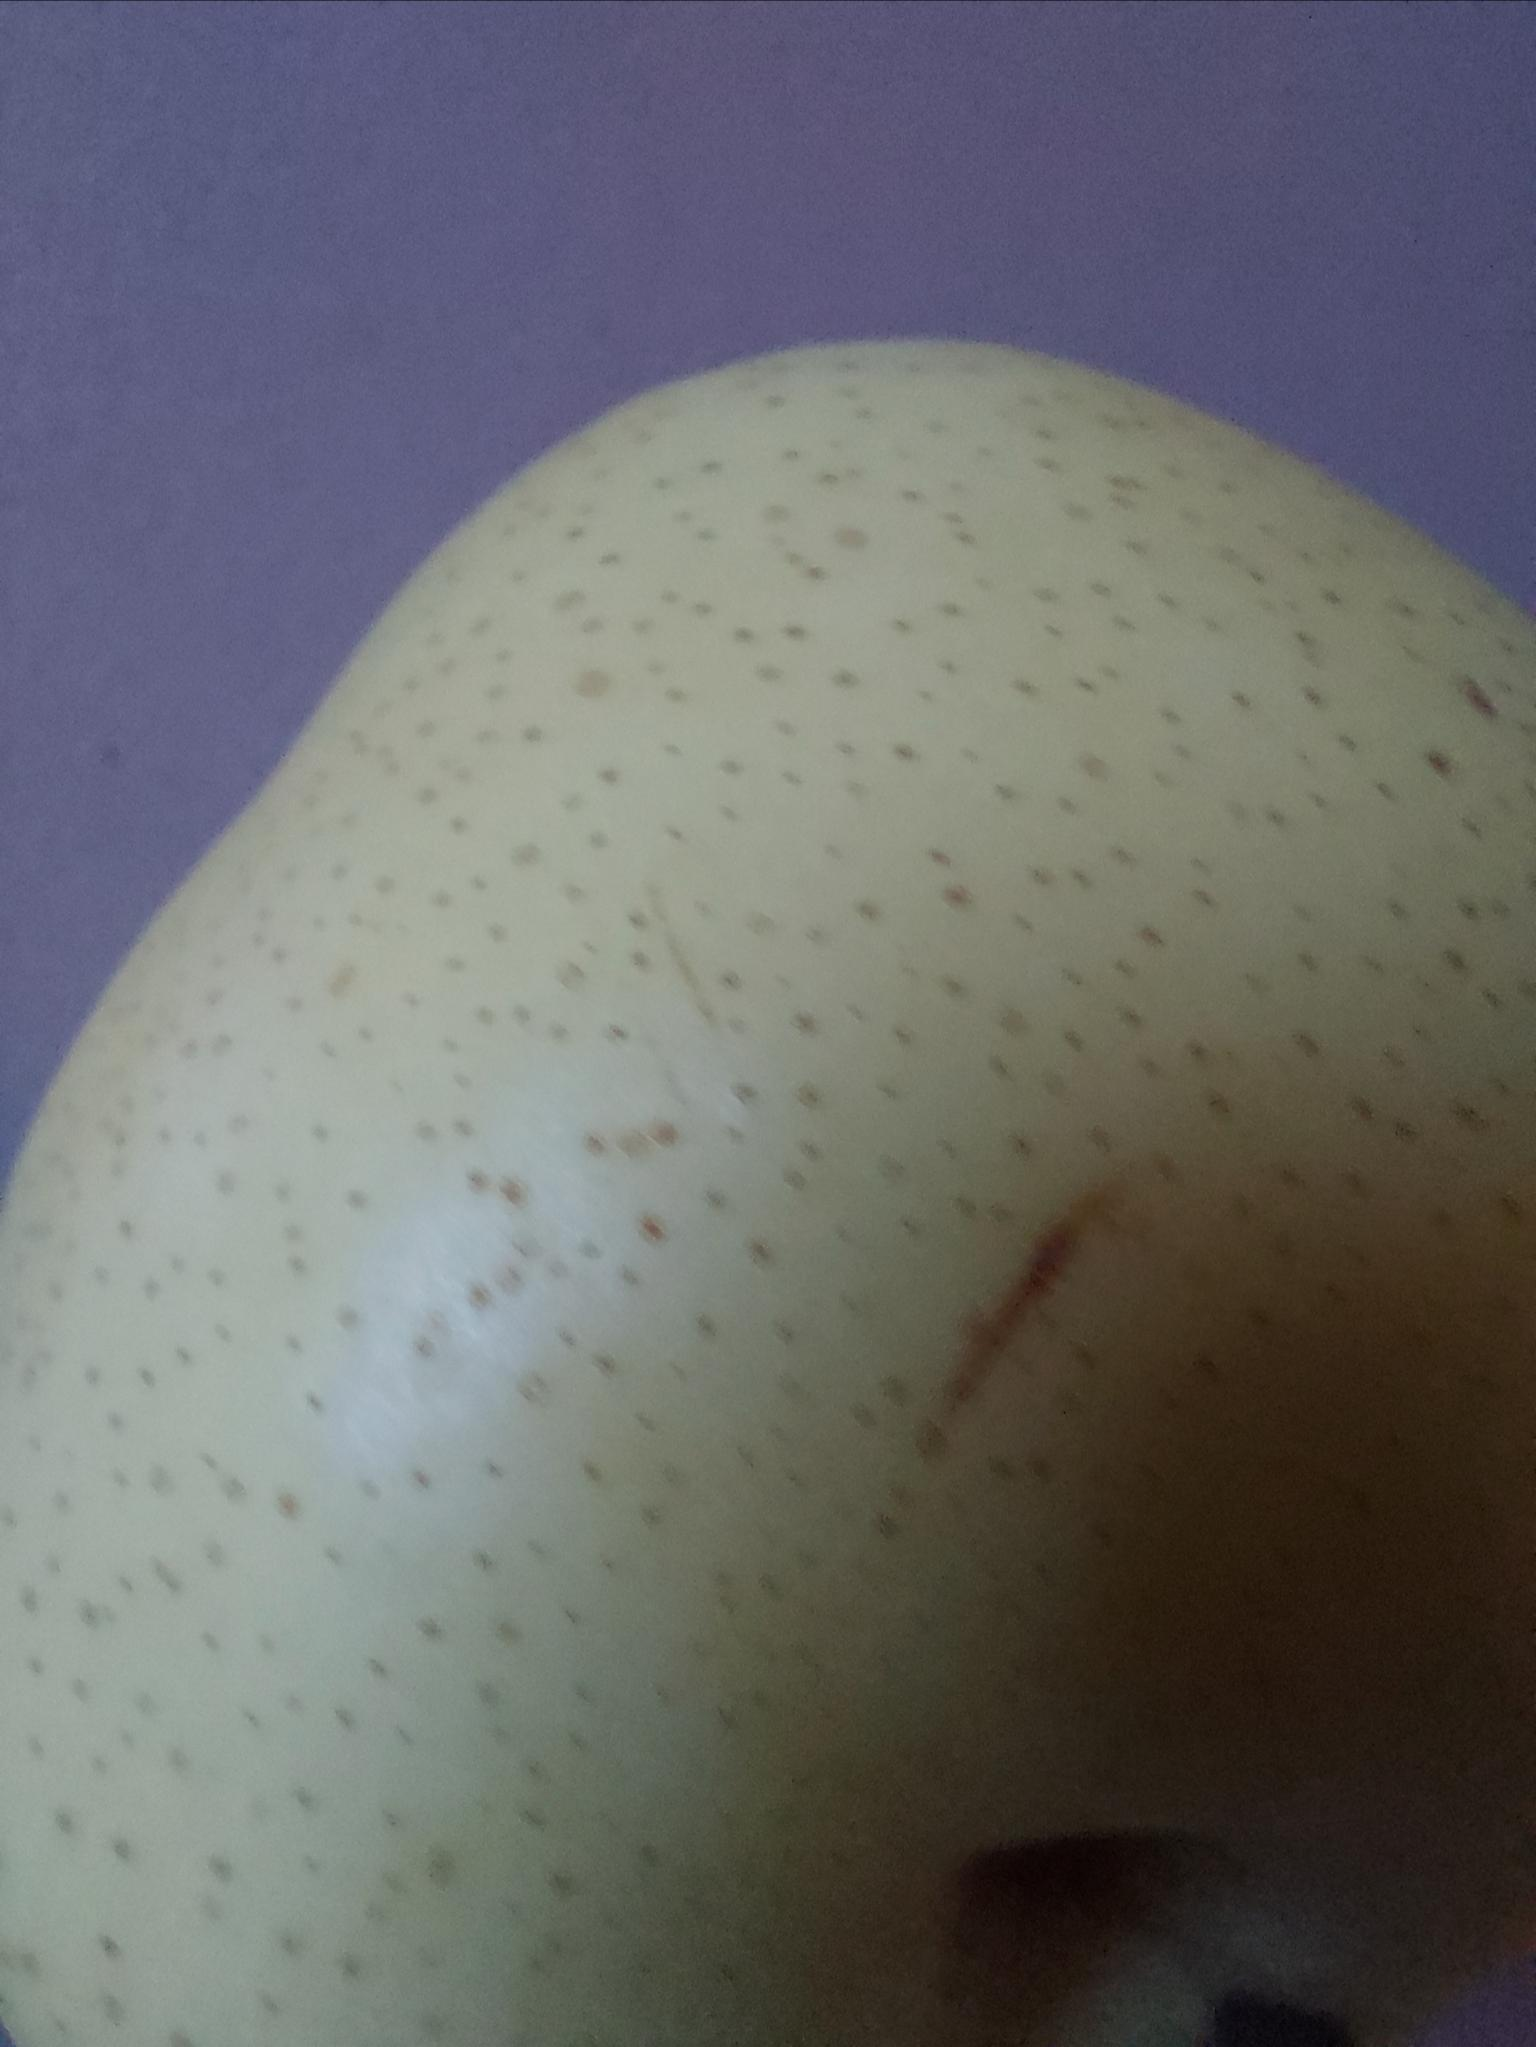Good Pear: (0, 326, 1536, 2047)
